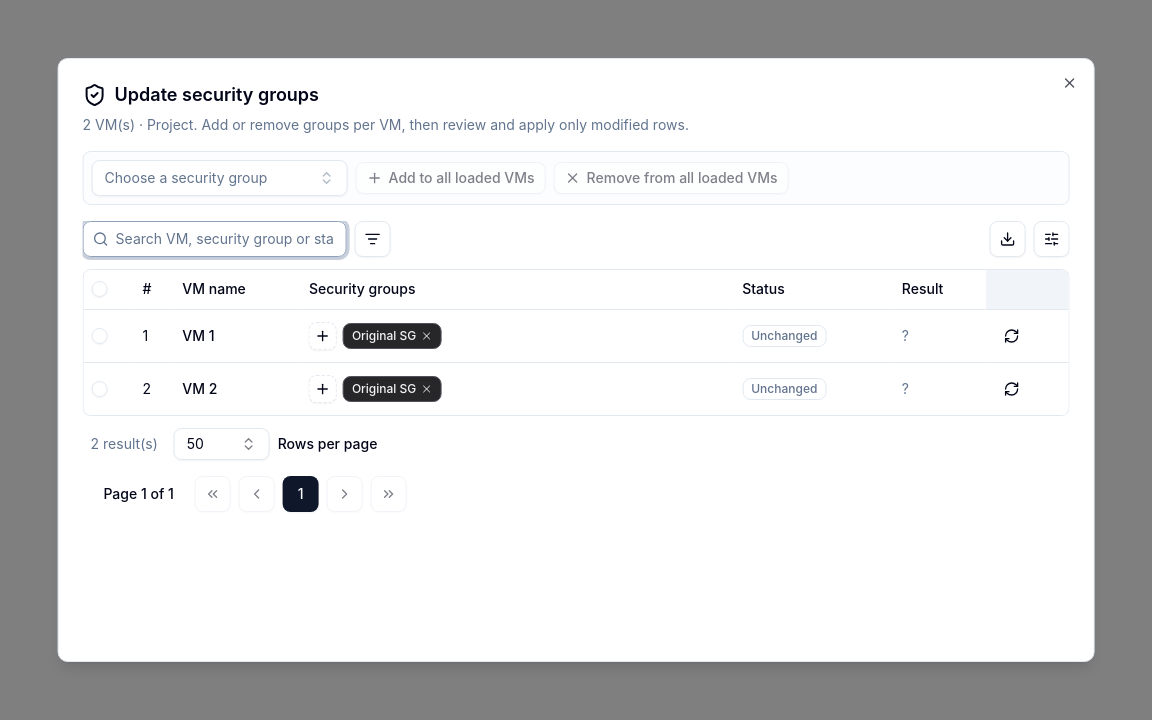
Test: adds a security group using the compact plus button at the start of the cell
This screenshot has width=1152, height=720.
Click the dropdown named "Add SG to VM 1".
click(323, 336)  # box [309,322,337,350]
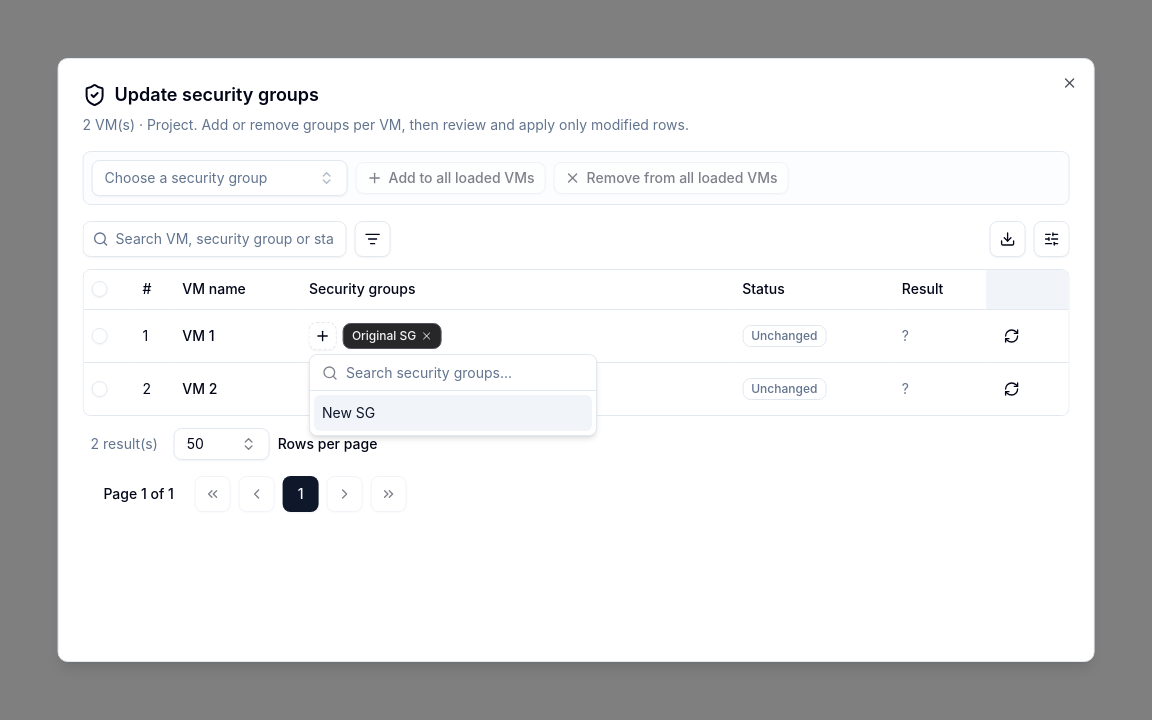
Click the option "New SG".
click(349, 412)  # box [314,395,592,431]
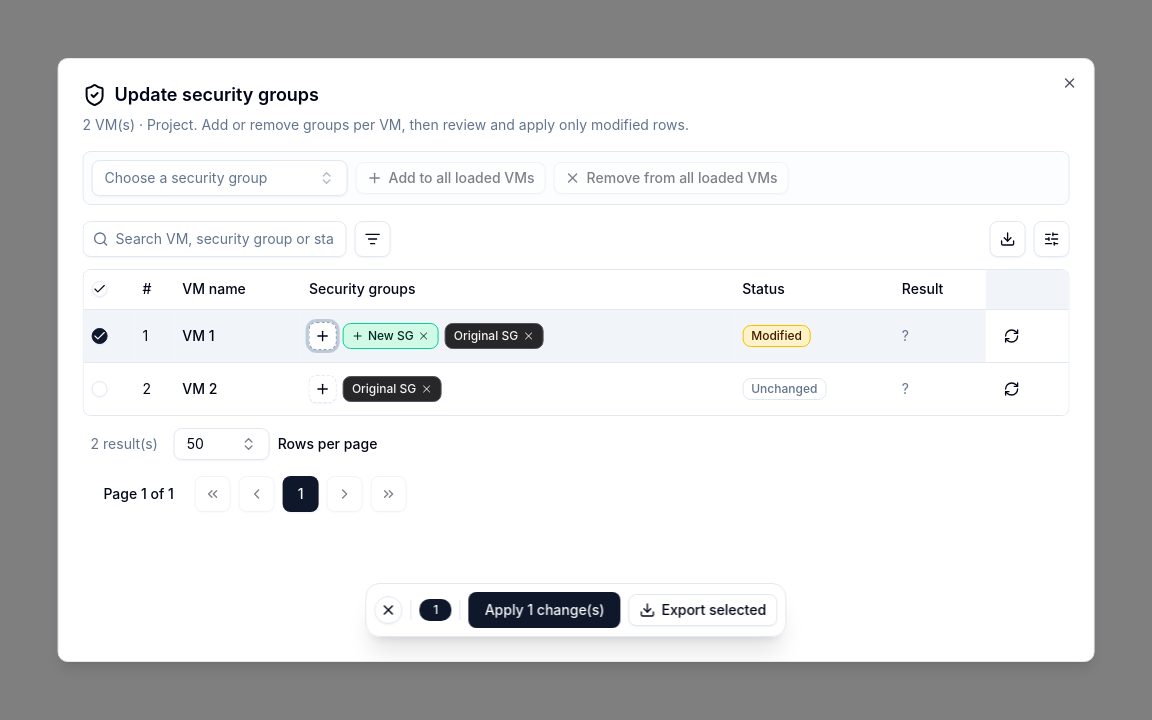
Check: the button named "Remove New SG from VM 1" is shown, box [418,330,430,342]
Check: the text "Modified" is shown, box [742,325,811,347]
